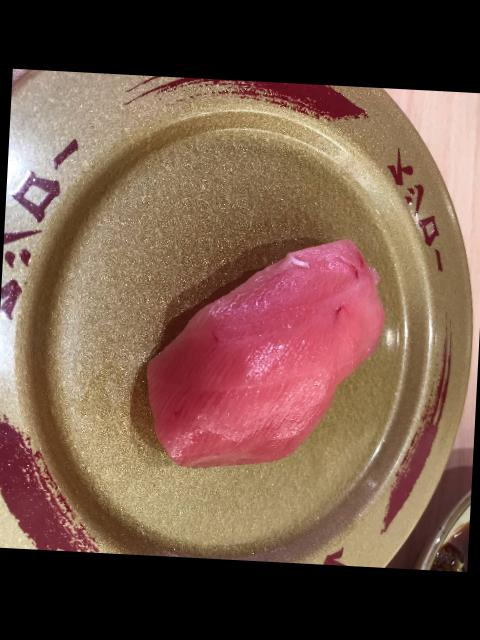jangold: (0, 67, 422, 568)
